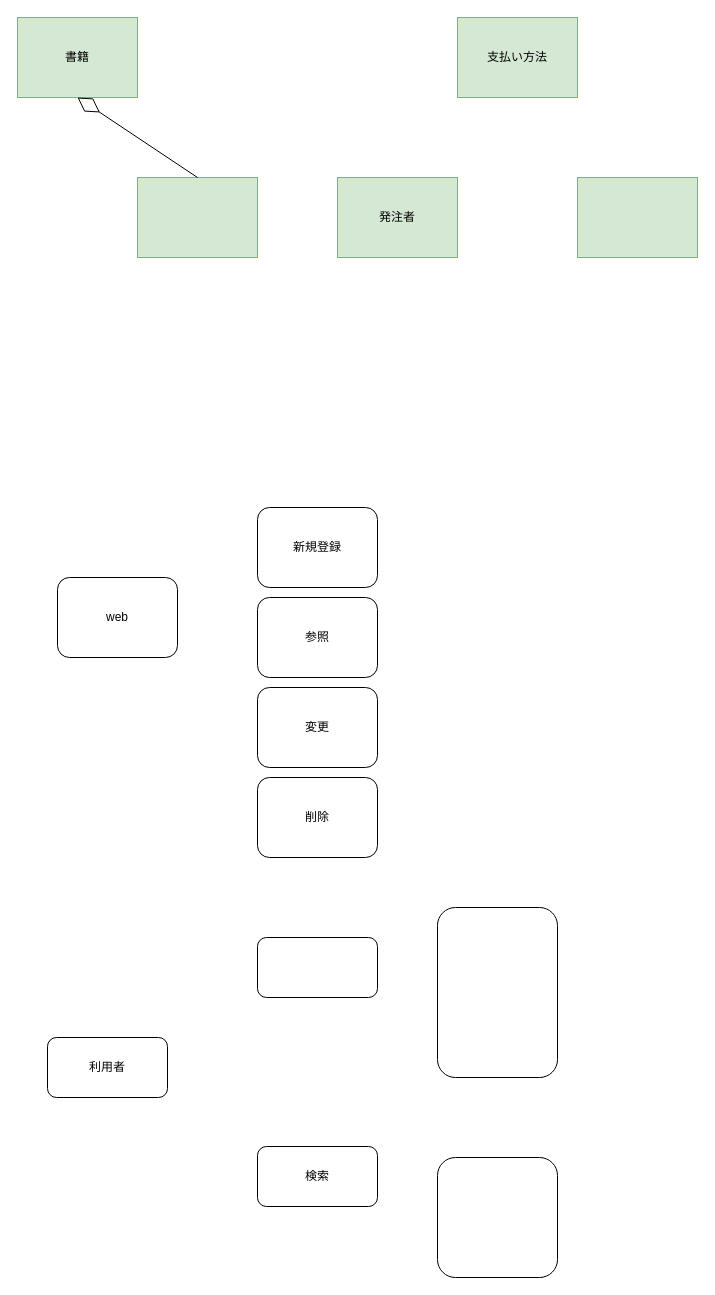
Some shapes in this 715 by 1295 pixel diagram are drawn without their labels. Here are the shapes that lost their labels. From the top down, the centre of each, then its label:
At point (197, 217): "書籍レビュー".
At point (317, 967): "図書カード作成".
At point (497, 992): "IDナンバー 氏名 住所 電話番号 メールアドレス".
At point (497, 1217): "書名 著者".
